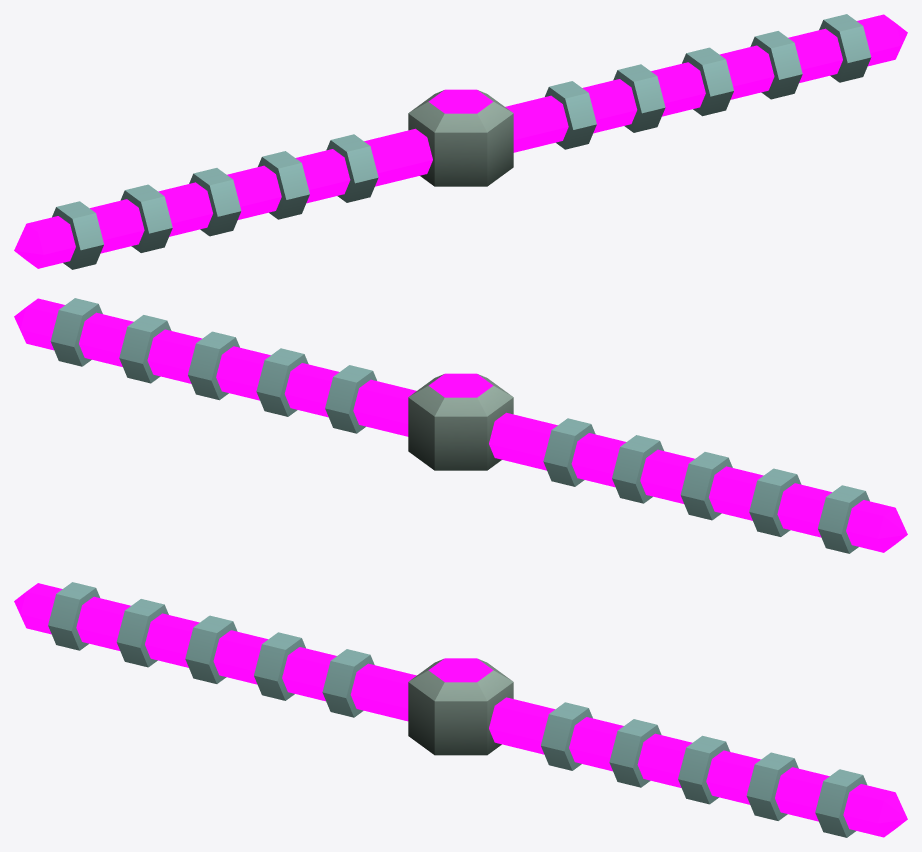
Rendered from laser-spin_001.fbx.
The picture shows the model from 3 angles, top to bottom: view 1: azimuth 30°, elevation 25°; view 2: azimuth 150°, elevation 25°; view 3: azimuth 330°, elevation 25°; orthographic projection.
Parts seen in each view (by area): view 1: laser-spin.001; view 2: laser-spin.001; view 3: laser-spin.001.
Part boxes in pixels (bbox=[...]): laser-spin.001: bbox=[14, 14, 907, 269]; laser-spin.001: bbox=[14, 298, 907, 553]; laser-spin.001: bbox=[14, 582, 907, 837].
Size of the model in its own units: 984 by 69.09 by 101.
